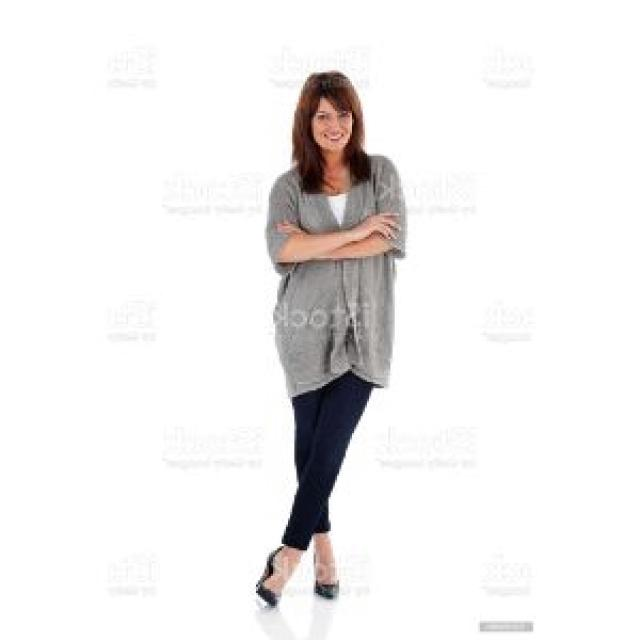adult: (215, 49, 448, 629)
